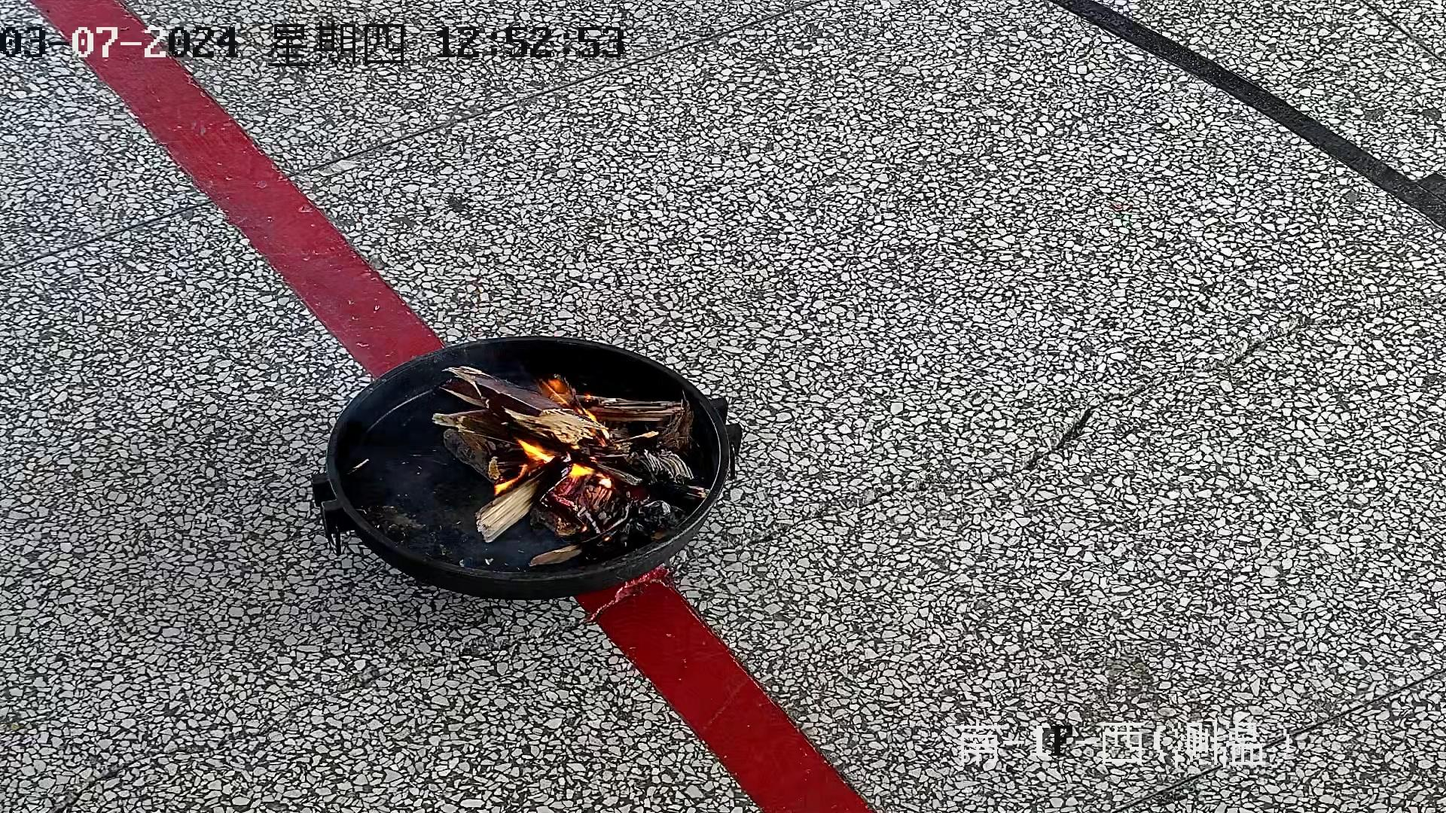fire: (433, 367, 699, 545)
